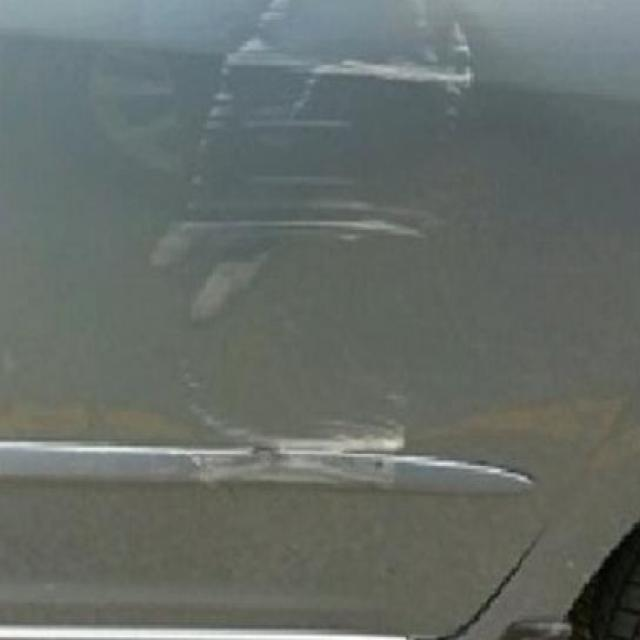scratch: (165, 12, 491, 502)
